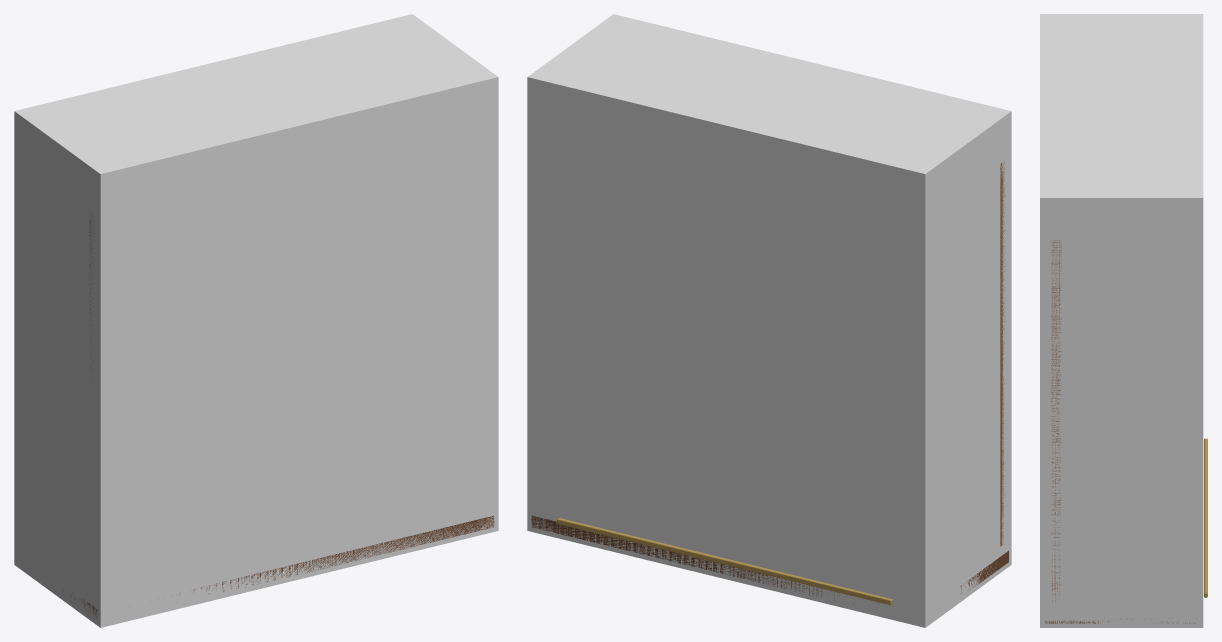
The model's file is luxury.glb.
3 renders of one model, left to right at view 1: azimuth 30°, elevation 25°; view 2: azimuth 150°, elevation 25°; view 3: azimuth 270°, elevation 25°, orthographic. The views are drawn at different scales.
Parts seen in each view (by area): view 1: COL_SHIRT_DISPLAYS_LUXURY, ShirtDisplay_Base.003; view 2: COL_SHIRT_DISPLAYS_LUXURY, ShirtDisplay_Base.003, ShirtDisplay_BrassToeKick, ShirtDisplay_Back.003; view 3: COL_SHIRT_DISPLAYS_LUXURY, ShirtDisplay_Back.003, ShirtDisplay_BrassToeKick.
Boxes of the visible parts, x1,y1,x2,y2 form: COL_SHIRT_DISPLAYS_LUXURY: (14, 14, 498, 627); ShirtDisplay_Base.003: (63, 515, 494, 616); COL_SHIRT_DISPLAYS_LUXURY: (527, 14, 1011, 627); ShirtDisplay_Base.003: (531, 515, 1008, 600); ShirtDisplay_BrassToeKick: (557, 518, 892, 605); ShirtDisplay_Back.003: (1000, 161, 1005, 546); COL_SHIRT_DISPLAYS_LUXURY: (1040, 14, 1203, 627); ShirtDisplay_Back.003: (1051, 240, 1061, 602); ShirtDisplay_BrassToeKick: (1204, 438, 1207, 597).
Bounding box in the file's own units: 1.98 × 2.16 × 0.765.
